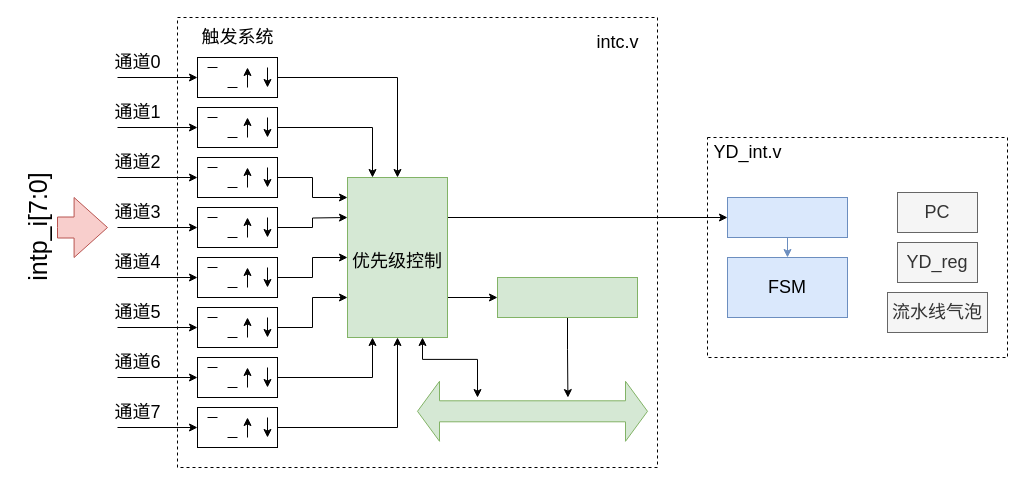
The diagram is 1025 pixels wide and 485 high, and some of its shapes have lost their labels. Here are the shapes that lost their labels. From the top down, the centre of each, then its label:
At (x=787, y=217): "中断触发".
At (x=567, y=297): "中断通道号寄存".
At (x=532, y=410): "dbus".
